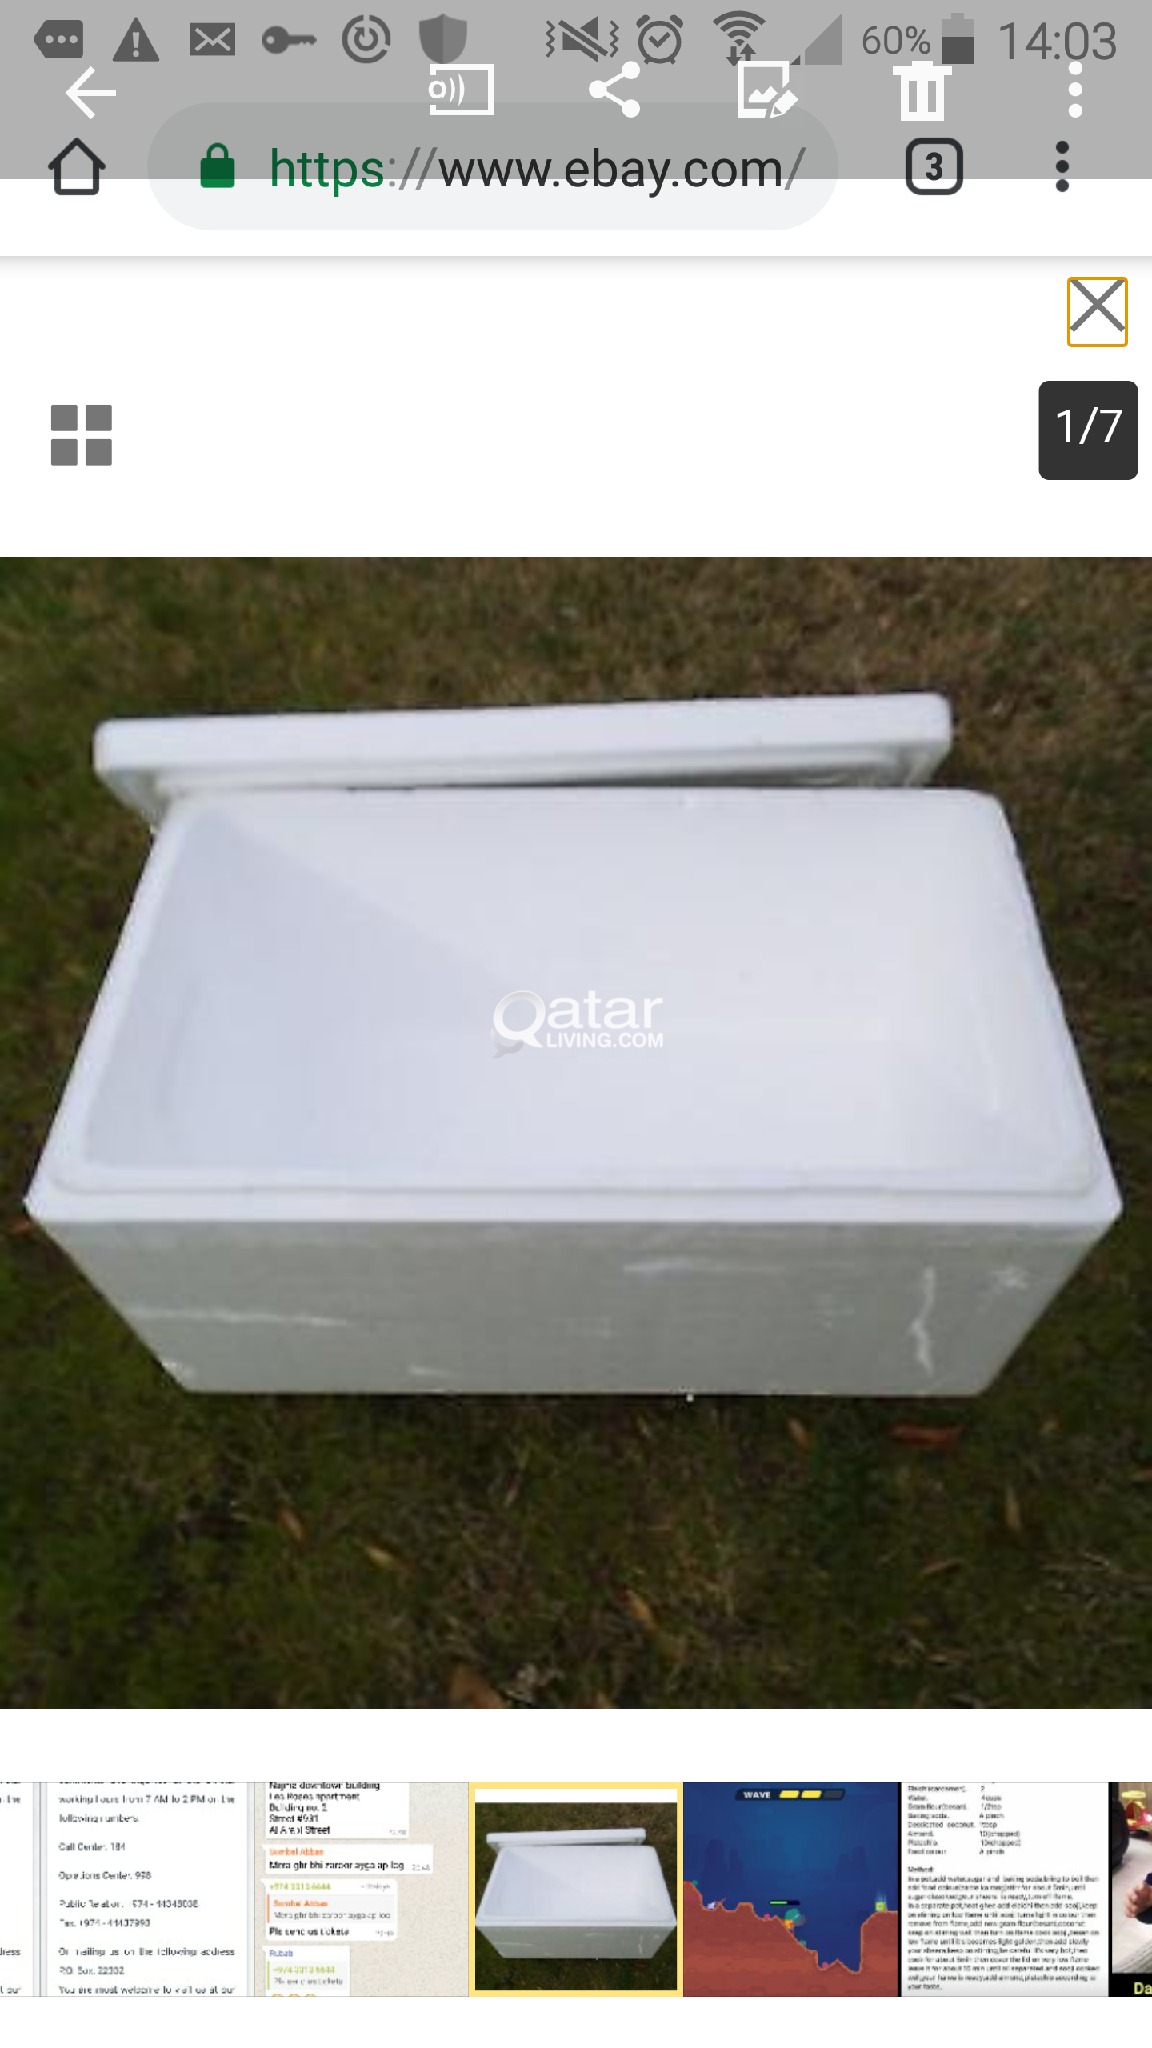Foam Box: (13, 681, 1135, 1415)
